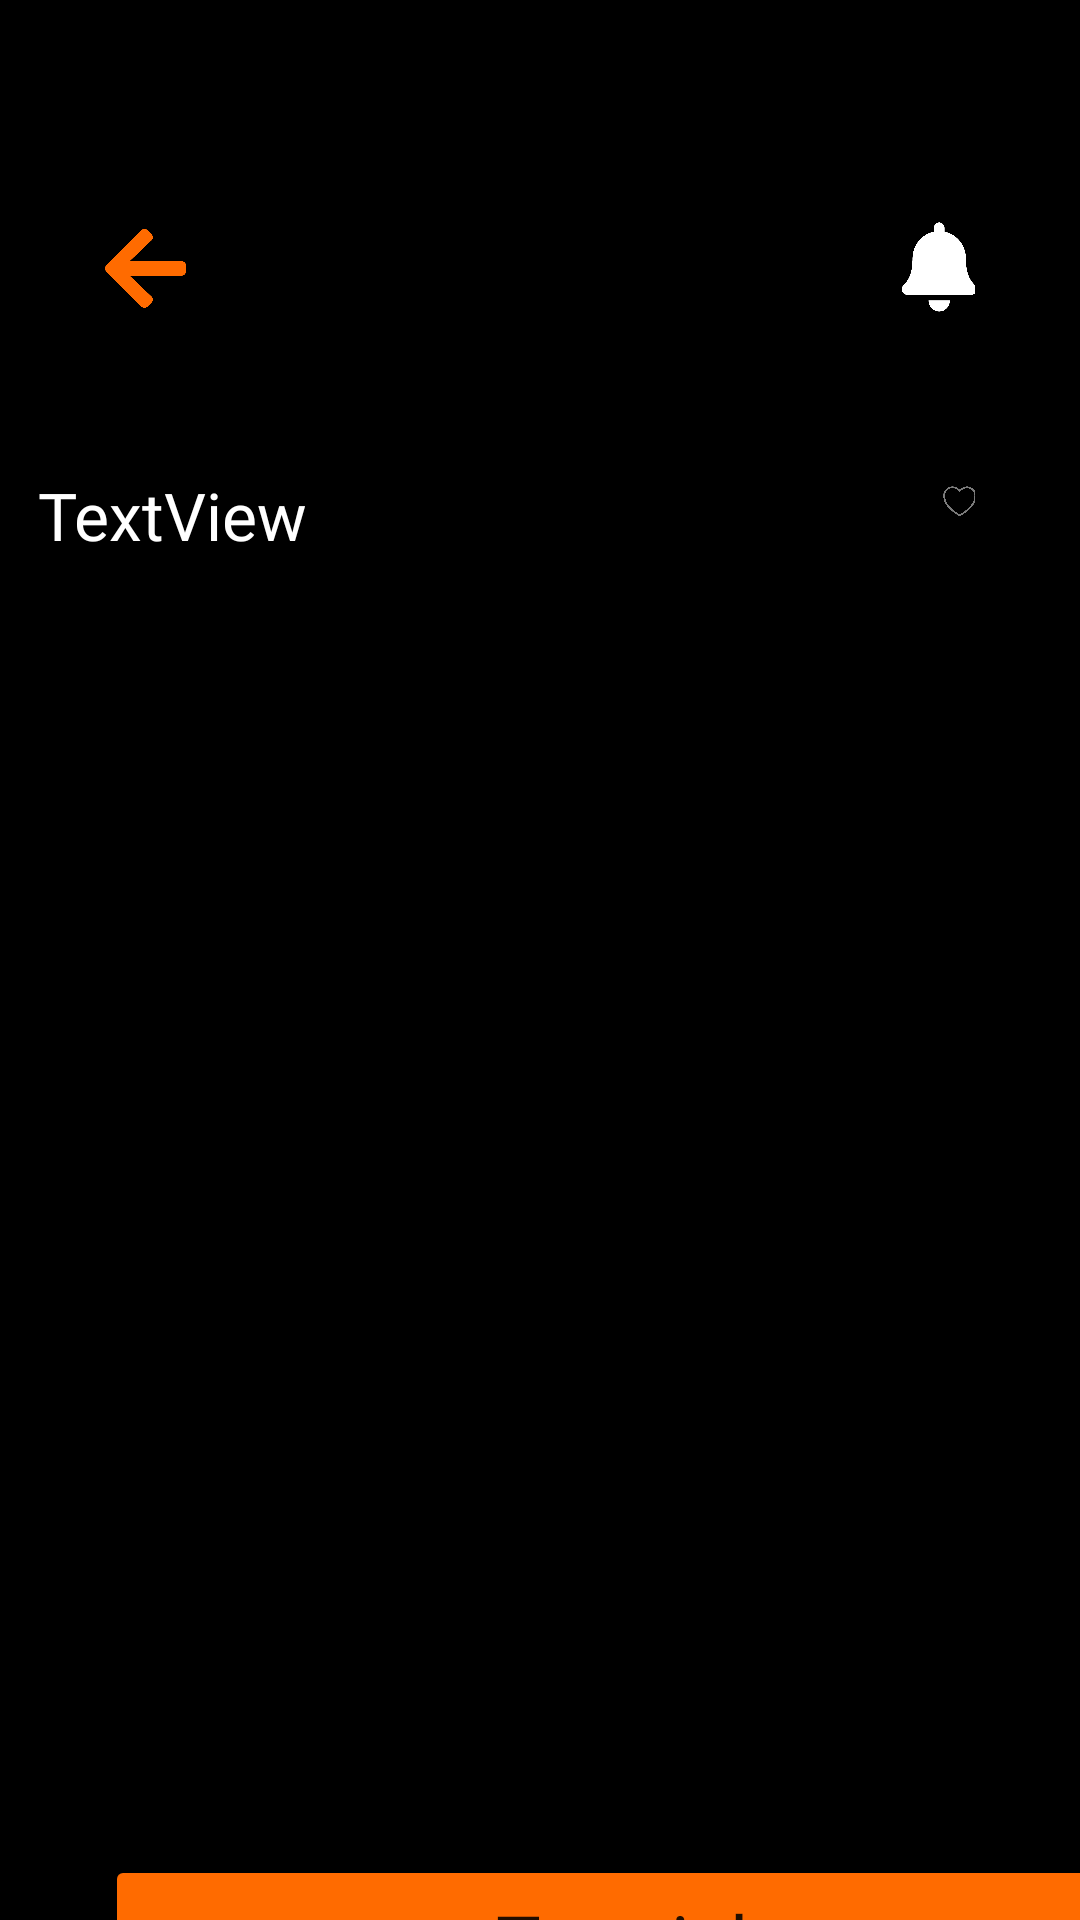

Icons on this 1080×1920 Android screen, each with its box as (x1, y1, x2, y2):
alert: (902, 222, 975, 312)
back: (105, 229, 186, 308)
like: (943, 486, 975, 516)
